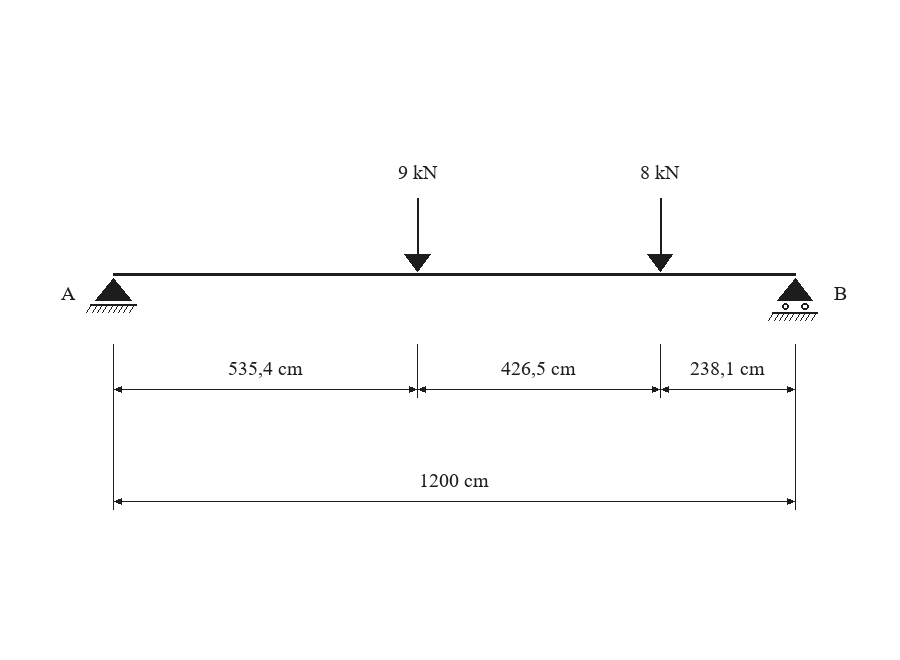pin_support: (86, 278, 137, 313)
point_load: (404, 198, 431, 272), (647, 198, 673, 272)
roller_support: (768, 278, 818, 321)
